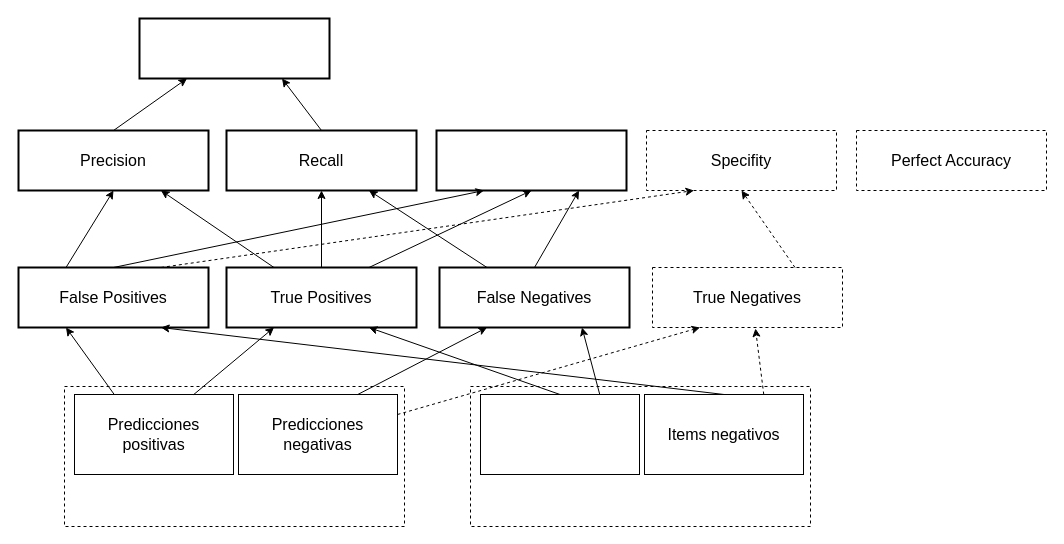
Some shapes in this 1064 by 544 pixel diagram are drawn without their labels. Here are the shapes that lost their labels. From the top down, the box of each, then its label:
(138, 17, 330, 79): F1-Score
(435, 129, 627, 191): Accuracy
(480, 394, 640, 474): Items positivos
(64, 386, 404, 526): Clasificador texto base
(470, 386, 810, 526): Dataset texto extraido
